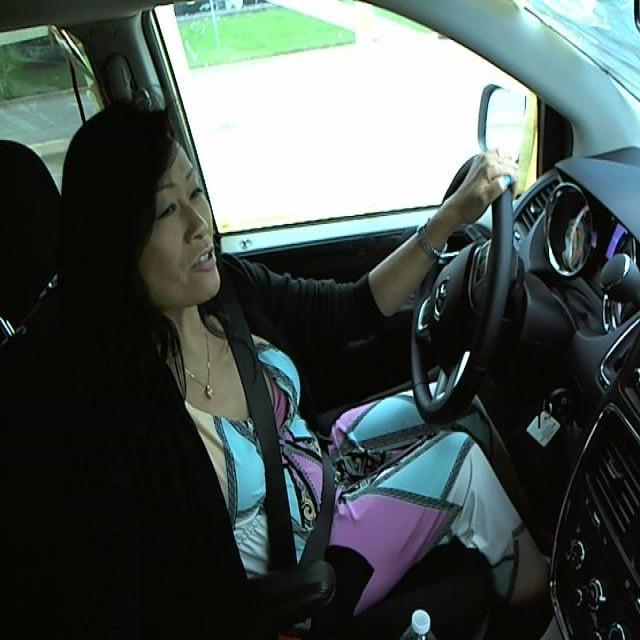seatbelt: (206, 295, 338, 556)
